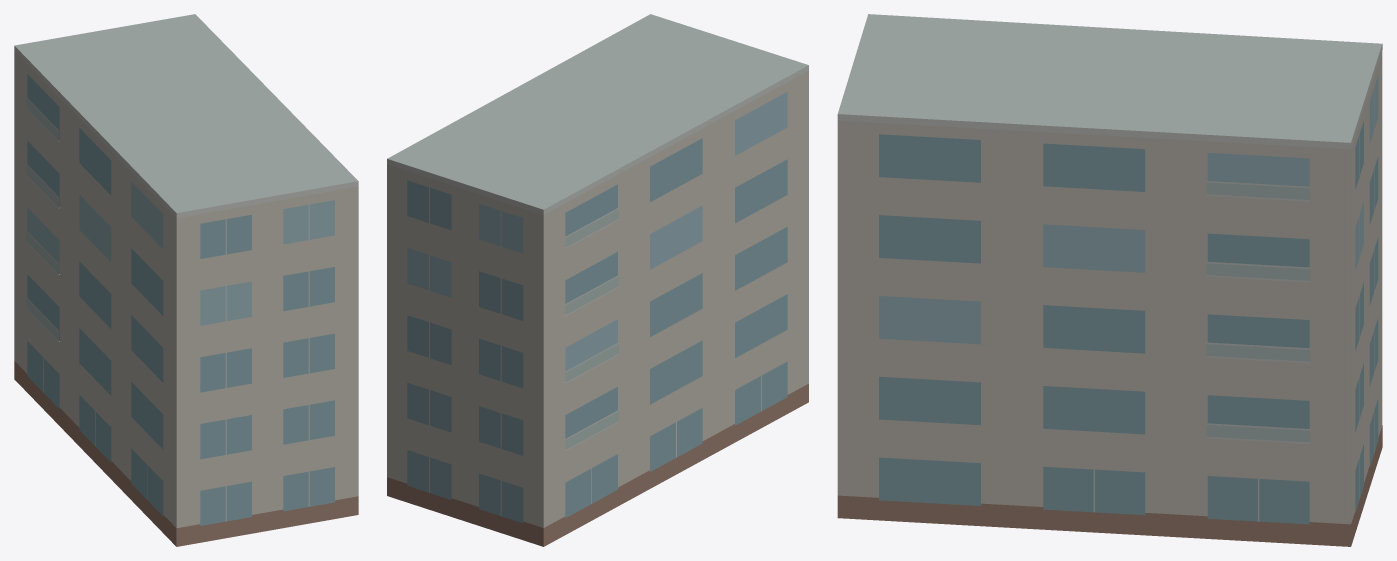
The model's file is survey-upis-32561990.glb.
3 renders of one model, left to right at view 1: azimuth 30°, elevation 25°; view 2: azimuth 150°, elevation 25°; view 3: azimuth 270°, elevation 25°, orthographic. The views are drawn at different scales.
Parts seen in each view (by area): view 1: survey-upis-32561990.tmp; view 2: survey-upis-32561990.tmp; view 3: survey-upis-32561990.tmp.
Boxes of the visible parts, x1=… form: survey-upis-32561990.tmp: x1=14, y1=14, x2=358, y2=546; survey-upis-32561990.tmp: x1=387, y1=14, x2=808, y2=546; survey-upis-32561990.tmp: x1=837, y1=14, x2=1382, y2=546.
Bounding box in the file's own units: 10.47 × 15.3 × 18.71.
